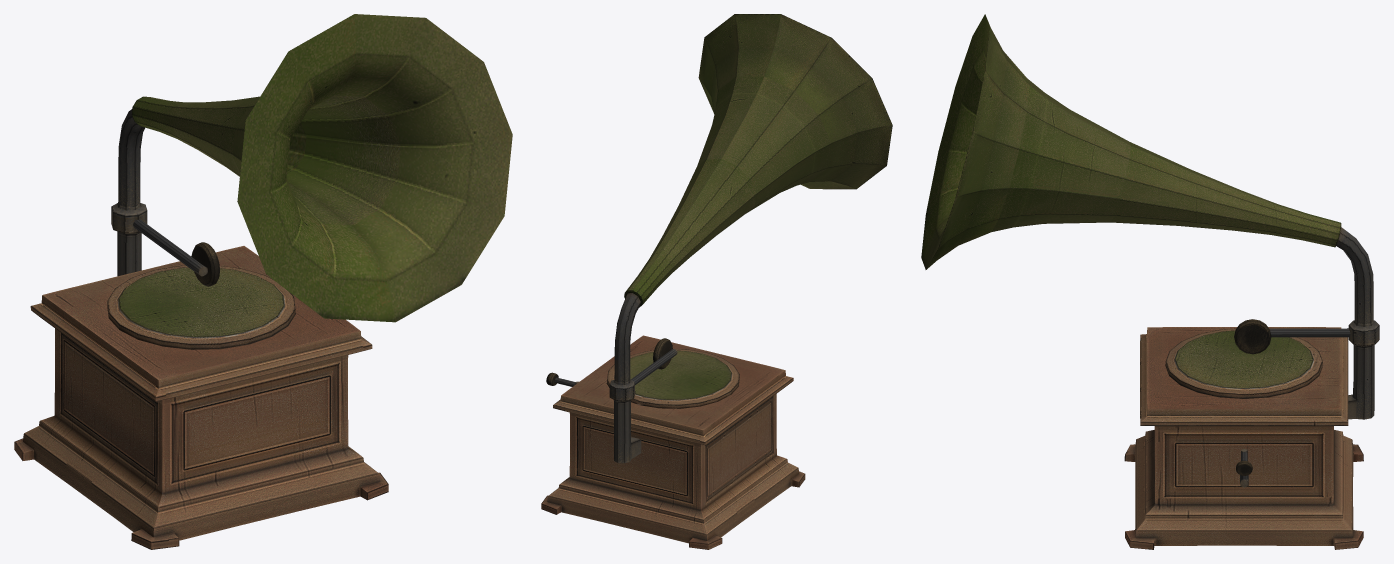
The model's file is Gramophone.fbx.
3 views of the same model, side by side, from view 1: azimuth 30°, elevation 25°; view 2: azimuth 150°, elevation 25°; view 3: azimuth 270°, elevation 25° (orthographic). The views are drawn at different scales.
Visible parts, largest first — view 1: Gramophone3, Gramophone4; view 2: Gramophone3, Gramophone4; view 3: Gramophone3, Gramophone4.
Part boxes in pixels (x1,y1,x2,y2): Gramophone3: (14, 14, 512, 549); Gramophone4: (133, 219, 219, 286); Gramophone3: (541, 14, 892, 549); Gramophone4: (631, 338, 677, 384); Gramophone3: (921, 14, 1379, 549); Gramophone4: (1234, 319, 1350, 354).
Size of the model in its own units: 33.71 by 58.44 by 51.26.
